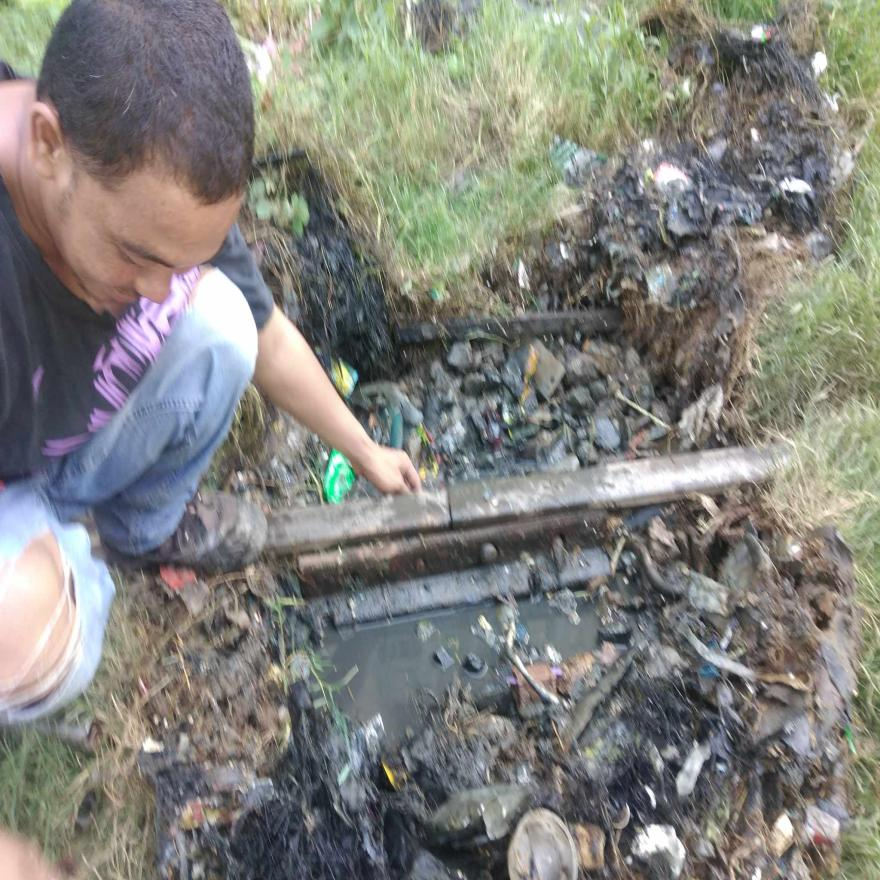railway-gap: (410, 453, 492, 560)
